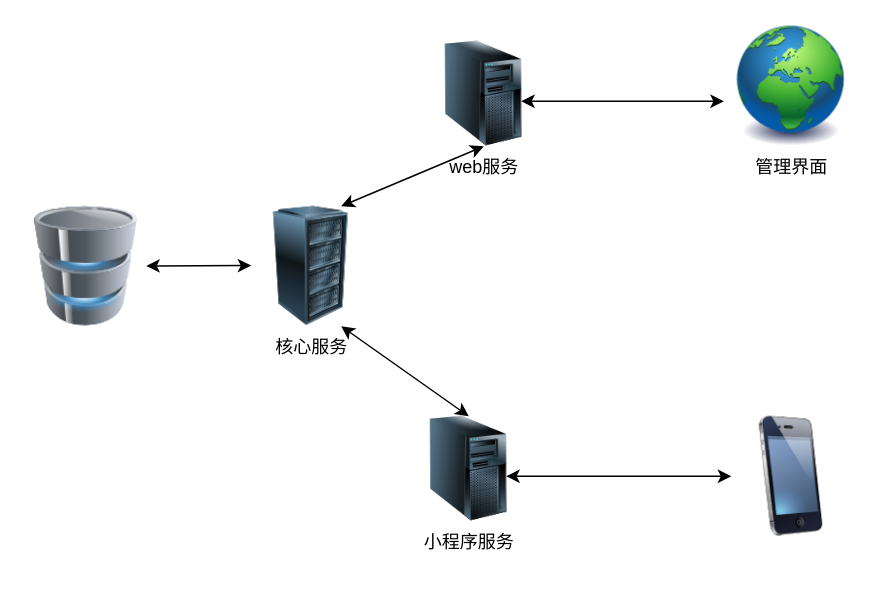
The diagram is 876 pixels wide and 593 high, and some of its shapes have lost their labels. Each missing label, with the centre of its shape:
微信小程序: point 790,476
数据库: point 86,266
